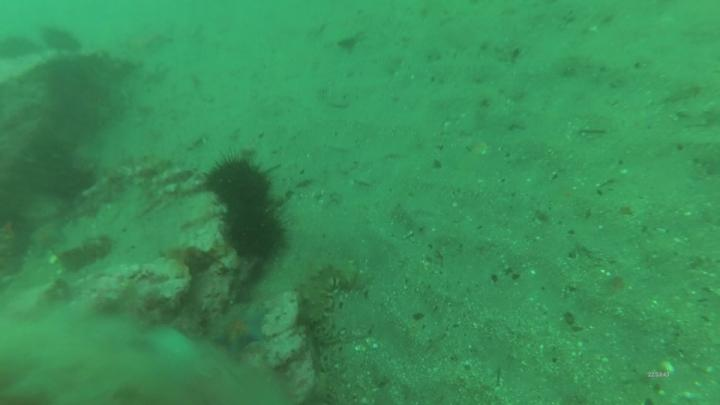echinus: (208, 159, 269, 210), (223, 207, 283, 255)
holothurian: (304, 260, 356, 341), (117, 160, 202, 193)
starfish: (212, 304, 269, 352)
